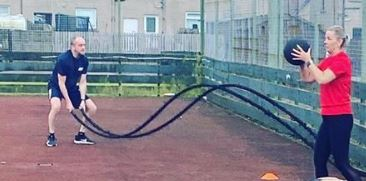Good: (45, 24, 362, 181)
